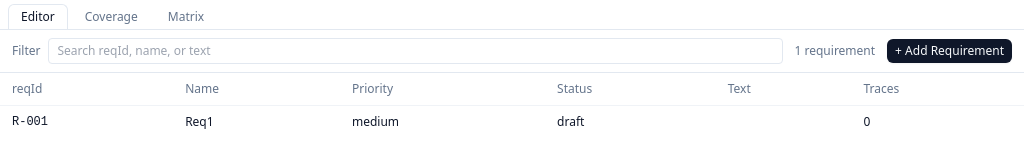
Test: <RequirementsSurface /> › shows the "no match" empty state when the filter matches nothing
Type "zzz-no-match-zzz" into the search field with test id "requirements-surface-filter".
click(416, 51); type("zzz-no-match-zzz")  # box [48, 38, 782, 64]
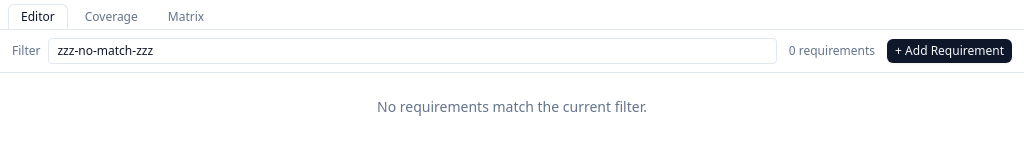
expect the text with test id "requirements-surface-empty" shows "No requirements match": met, box [377, 97, 647, 116]
